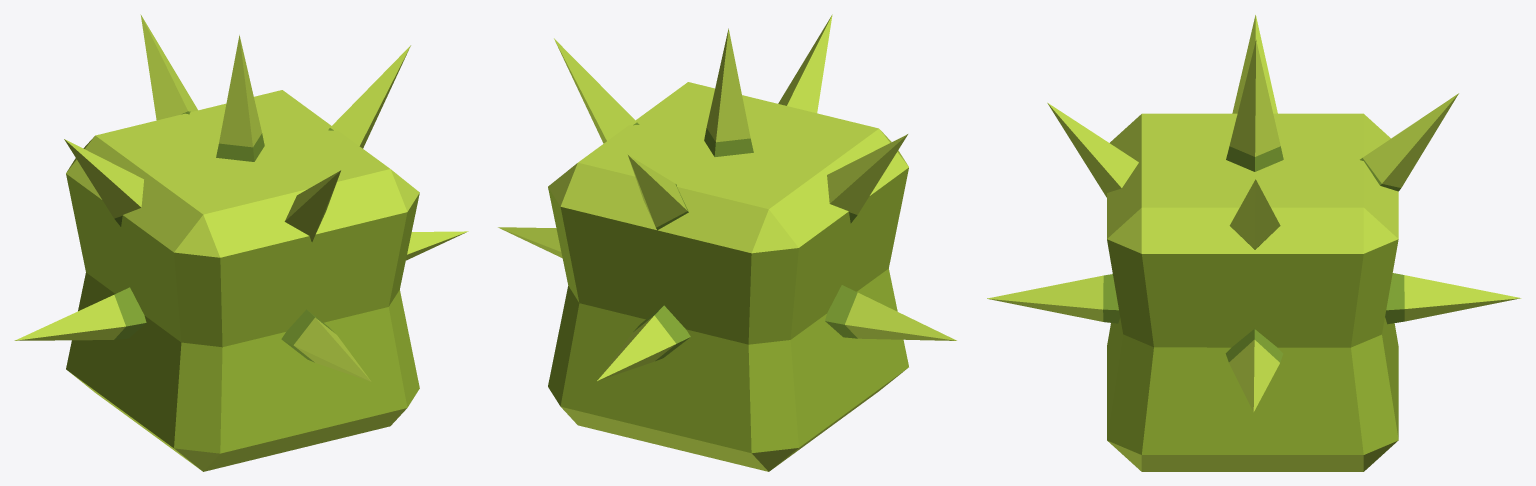
File: slime2.fbx
3 views of the same model, side by side, from view 1: azimuth 30°, elevation 25°; view 2: azimuth 150°, elevation 25°; view 3: azimuth 270°, elevation 25° (orthographic). The views are drawn at different scales.
Visible parts, largest first — view 1: Mesh_Slime02, Mesh_SlimeSpikes02; view 2: Mesh_Slime02, Mesh_SlimeSpikes02; view 3: Mesh_Slime02, Mesh_SlimeSpikes02.
Boxes of the visible parts, <box> form: Mesh_Slime02: <box>66,90,419,471</box>; Mesh_SlimeSpikes02: <box>14,14,468,381</box>; Mesh_Slime02: <box>548,82,908,471</box>; Mesh_SlimeSpikes02: <box>498,14,956,380</box>; Mesh_Slime02: <box>1107,113,1398,471</box>; Mesh_SlimeSpikes02: <box>987,15,1521,411</box>.
Bounding box in the file's own units: 2.96 × 2.95 × 2.34.
